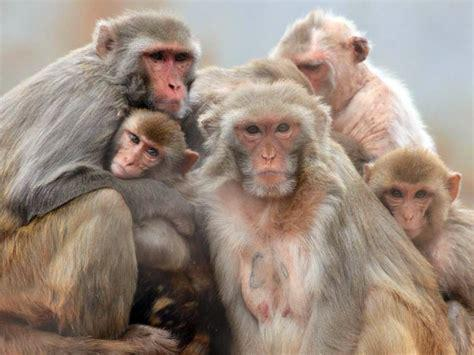monkey: (200, 84, 457, 355), (1, 16, 198, 337), (272, 12, 434, 153), (364, 153, 473, 355), (106, 104, 197, 204)
